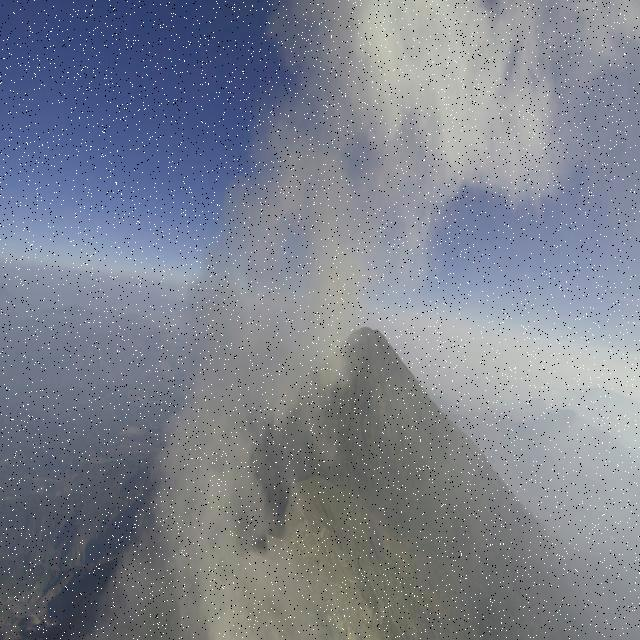Plume: (92, 155, 359, 640), (265, 0, 640, 208)
